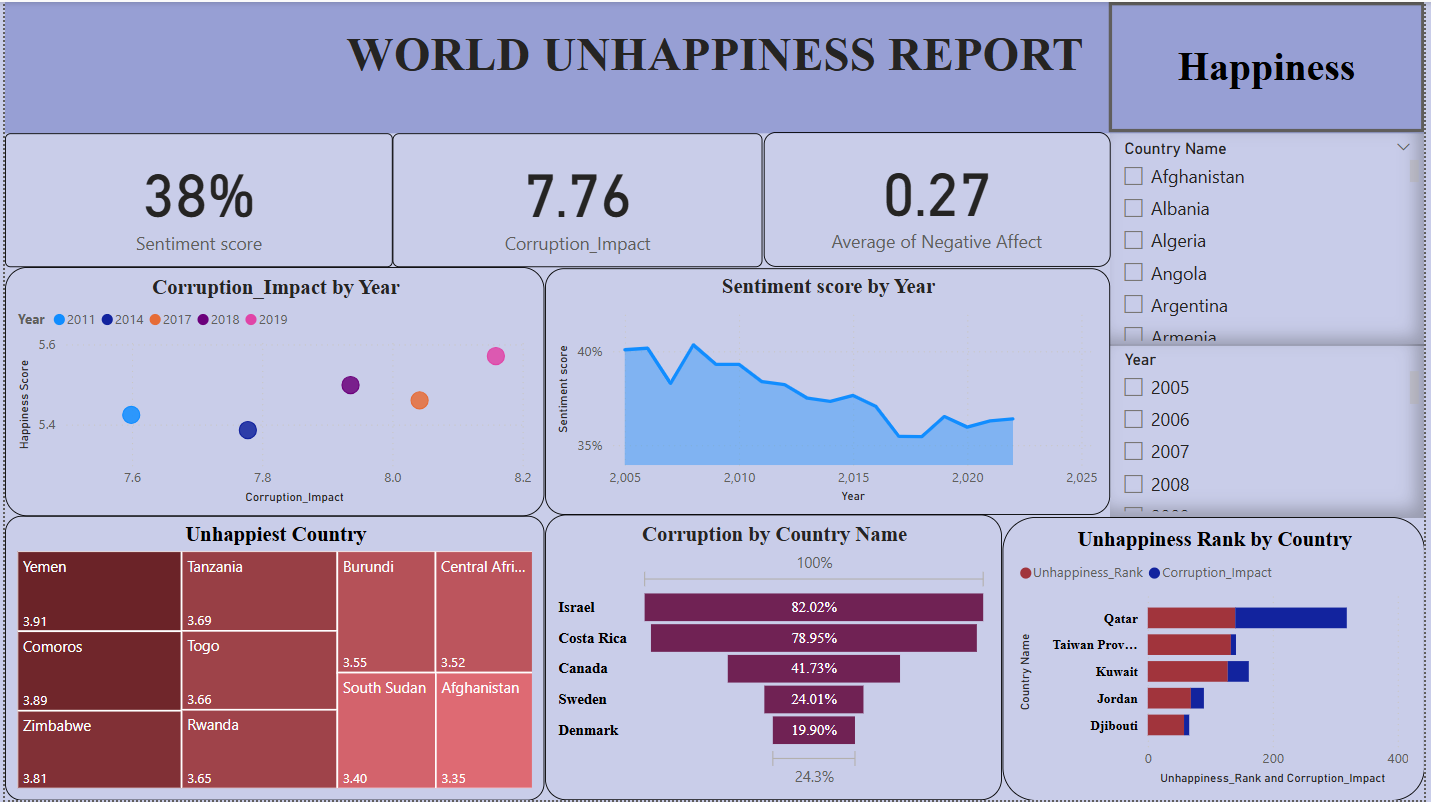

The page's visual inventory and layout, read from the dashboard file:
{"tool":"powerbi","page":{"name":"Dashboard 2","canvas":[1280,720],"ordinal":1},"visuals":[{"type":"textbox","box":[0,0,1280.3,118.6],"z":0},{"type":"slicer","fields":{"Values":["Sheet1.Country Name"]},"box":[996.6,118.6,283.7,192],"z":1000},{"type":"stackedAreaChart","fields":{"Category":["Sheet1.Year"],"Y":["Sheet1.Sentiment score"]},"box":[486.9,240.1,509.5,222],"z":2000},{"type":"treemap","title":"Unhappiest Country","fields":{"Group":["Sheet1.Country Name"],"Values":["Avg(Sheet1.Life Ladder)"]},"box":[0,463.5,486.7,256.8],"z":3000},{"type":"slicer","fields":{"Values":["Sheet1.Year"]},"box":[996.9,308.9,283.4,155.7],"z":4000},{"type":"card","fields":{"Values":["Sheet1.Sentiment score"]},"box":[0,118.6,349.7,121.1],"z":5000},{"type":"card","fields":{"Values":["Sheet1.Corruption_Impact"]},"box":[349.7,118.6,333.8,121.1],"z":6000},{"type":"card","fields":{"Values":["Avg(Sheet1.Negative Affect)"]},"box":[684.2,117.4,312.7,121.3],"z":7000},{"type":"actionButton","box":[995.6,0,284.6,117.4],"z":8000},{"type":"scatterChart","title":"Corruption_Impact by Year","fields":{"Series":["Sheet1.Year"],"X":["Sheet1.Corruption_Impact"],"Size":["Min(Sheet1.Year)"],"Y":["Sheet1.Happiness Score"]},"box":[0,238.5,486.7,225],"z":9000},{"type":"funnel","title":"Corruption by Country Name","fields":{"Category":["Sheet1.Country Name"],"Y":["Avg(Sheet1.Perceptions of Corruption)"]},"box":[487,462.6,412.1,257.4],"z":10000},{"type":"barChart","title":"Unhappiness Rank by Country","fields":{"Category":["Sheet1.Country Name"],"Y":["Sheet1.Unhappiness_Rank","Sheet1.Corruption_Impact"]},"box":[899.2,464.2,381.2,255.7],"z":11000}]}

Visuals, with their boxes in screenshot pixels (x1, y1, x2, y2), scaled from the page's 1280x720 canvas onto the 1431x802 screenshot:
textbox: bbox=(0, 0, 1430, 132)
slicer - Sheet1.Country Name: bbox=(1114, 132, 1430, 346)
stackedAreaChart - Sheet1.Year x Sheet1.Sentiment score: bbox=(544, 267, 1114, 515)
"Unhappiest Country" treemap: bbox=(0, 516, 544, 801)
slicer - Sheet1.Year: bbox=(1115, 344, 1430, 518)
card - Sheet1.Sentiment score: bbox=(0, 132, 391, 267)
card - Sheet1.Corruption_Impact: bbox=(391, 132, 764, 267)
card - Avg(Sheet1.Negative Affect): bbox=(765, 131, 1115, 266)
actionButton: bbox=(1113, 0, 1430, 131)
"Corruption_Impact by Year" scatterChart: bbox=(0, 266, 544, 516)
"Corruption by Country Name" funnel: bbox=(544, 515, 1005, 801)
"Unhappiness Rank by Country" barChart: bbox=(1005, 517, 1430, 801)
